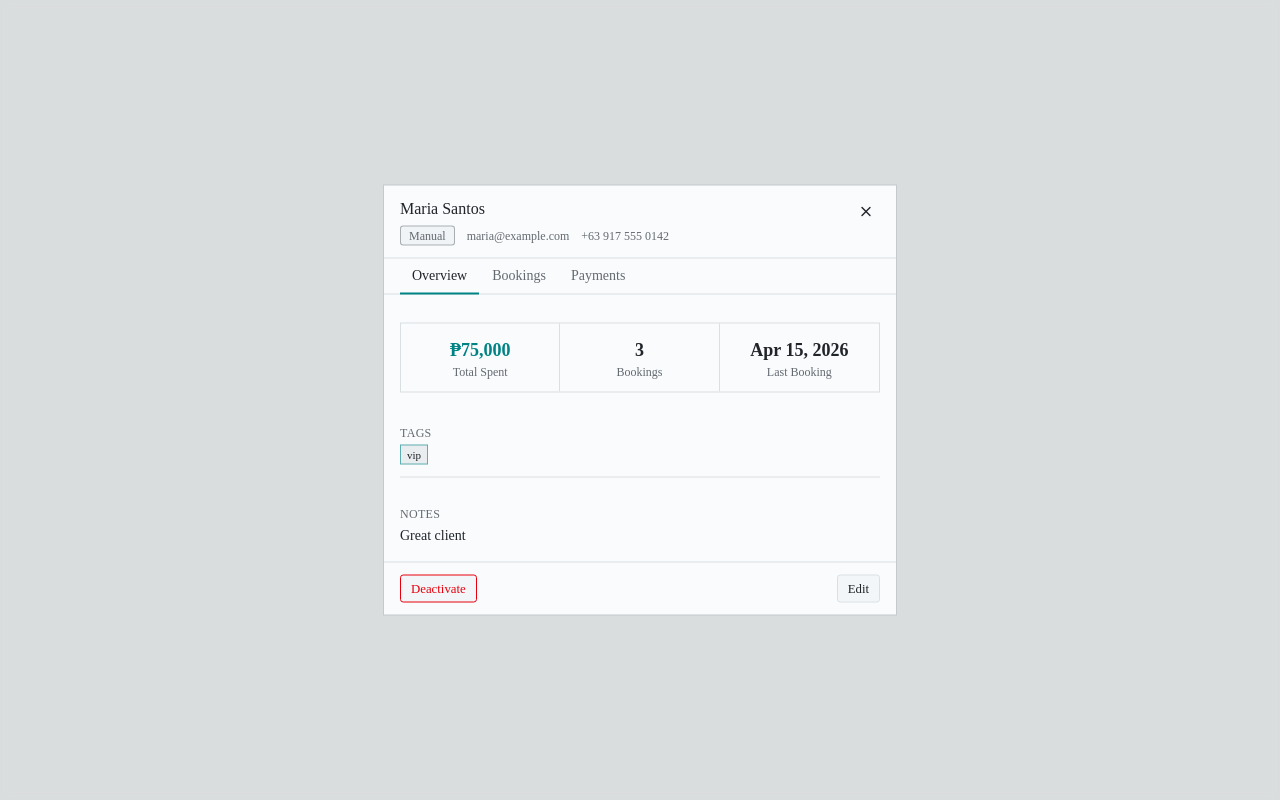
Test: ClientDetailModal › Payments tab shows empty state
The image size is (1280, 800).
What coordinates should you click on to do the following:
click the tab "Payments"
I would click on:
 (598, 276)
Its box is [559, 258, 637, 294].
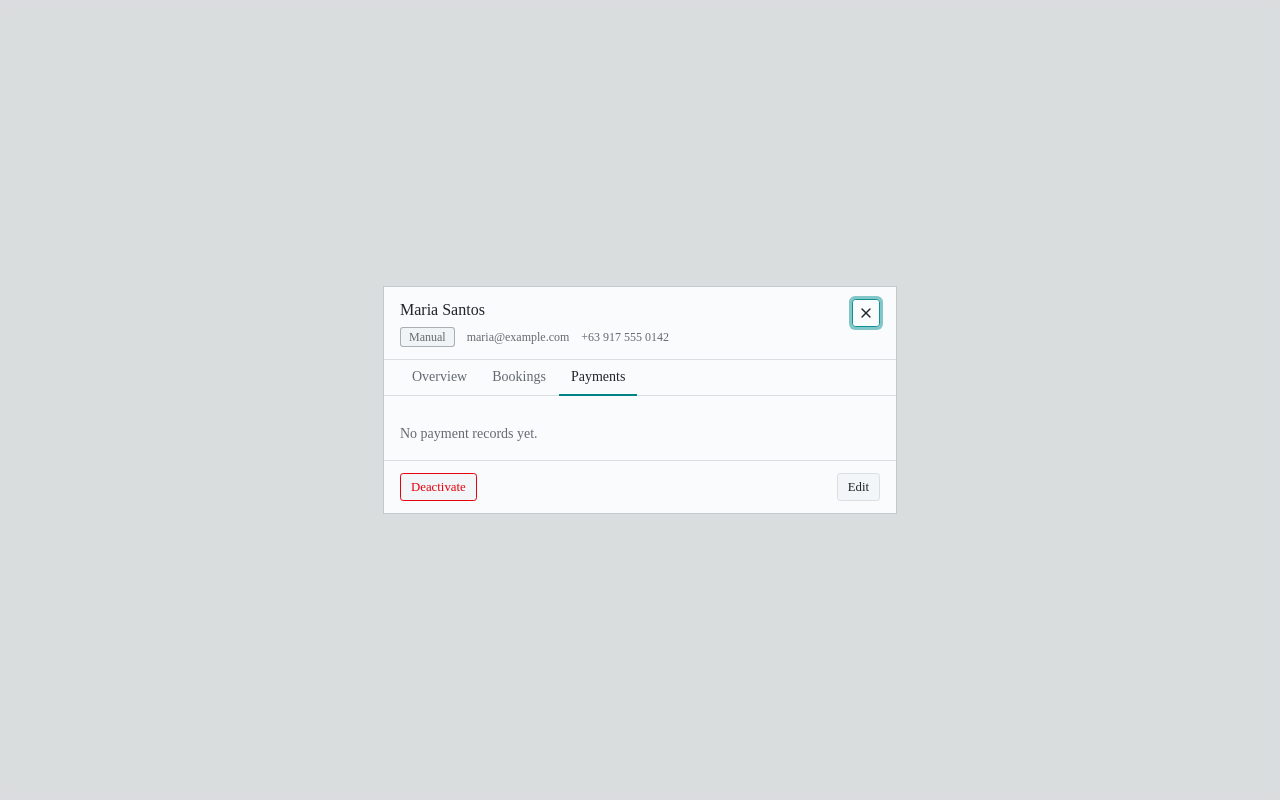
Now the text "No payment records yet." is shown, box [400, 426, 538, 441]
